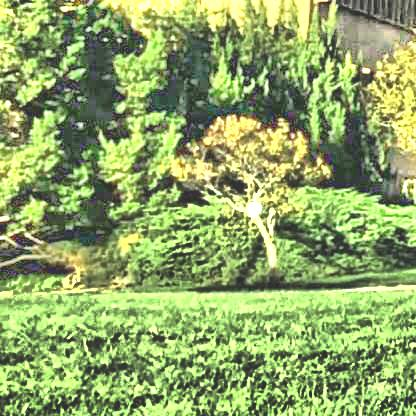golfball: (244, 198, 261, 215)
